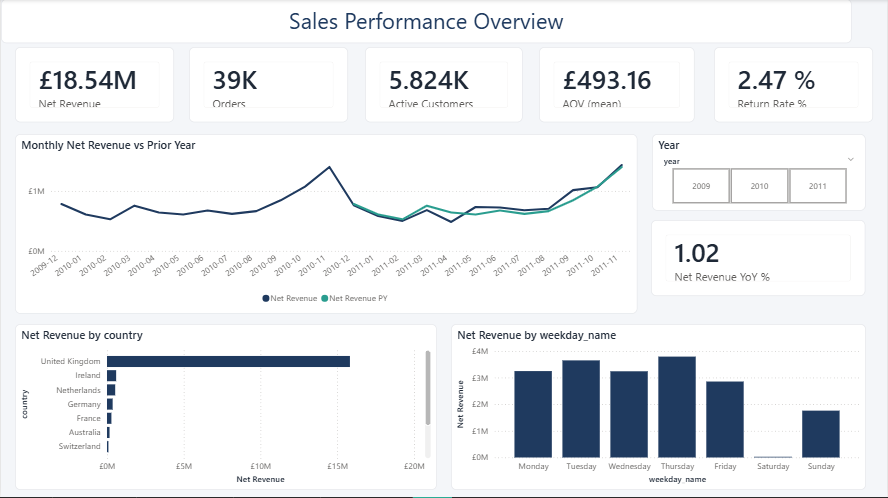

What the dashboard file says about the page in this screenshot:
{"tool":"powerbi","page":{"name":"Overview","canvas":[1280,720],"ordinal":0},"visuals":[{"type":"cardVisual","fields":{"Data":["Measures_.Net Reenue"]},"box":[20.2,70,230.1,109.2],"z":0},{"type":"cardVisual","fields":{"Data":["Measures_.Orders"]},"box":[272.1,70,230.1,109.2],"z":1000},{"type":"cardVisual","fields":{"Data":["Measures_.Active Customers"]},"box":[525.8,70,228.5,109.2],"z":2000},{"type":"cardVisual","fields":{"Data":["Measures_.Return Rate %"]},"box":[1031.4,70,230.1,109.2],"z":3000},{"type":"cardVisual","fields":{"Data":["Measures_.AOV (mean)"]},"box":[777.7,70,225.1,109.2],"z":4000},{"type":"lineChart","title":"Monthly Net Revenue vs Prior Year","fields":{"Category":["dim_calendar.year_month"],"Y":["Measures_.Net Revenue","Measures_.Net Revenue PY"]},"box":[20.2,195,900.4,260],"z":5000},{"type":"slicer","title":"Year","fields":{"Values":["dim_calendar.year"]},"box":[940.7,195,309.1,110.9],"z":6000},{"type":"textbox","box":[0,0,1229.6,63.8],"z":7000},{"type":"clusteredBarChart","fields":{"Category":["dim_country.country"],"Y":["Measures_.Net Revenue"]},"box":[20,470,610,240],"z":8000},{"type":"cardVisual","fields":{"Data":["Measures_.Net Revenue YoY %"]},"box":[940,320,310,110],"z":9000},{"type":"clusteredColumnChart","fields":{"Category":["dim_calendar.weekday_name"],"Y":["Measures_.Net Revenue"]},"box":[650,470,600,240],"z":10000}]}

Visuals, with their boxes in screenshot pixels (x1, y1, x2, y2), scaled from the page's 1280x720 canvas onto the 888x498 screenshot:
cardVisual - Measures_.Net Reenue: bbox=[14, 48, 174, 124]
cardVisual - Measures_.Orders: bbox=[189, 48, 348, 124]
cardVisual - Measures_.Active Customers: bbox=[365, 48, 523, 124]
cardVisual - Measures_.Return Rate %: bbox=[716, 48, 875, 124]
cardVisual - Measures_.AOV (mean): bbox=[540, 48, 696, 124]
"Monthly Net Revenue vs Prior Year" lineChart: bbox=[14, 135, 639, 315]
"Year" slicer: bbox=[653, 135, 867, 212]
textbox: bbox=[0, 0, 853, 44]
clusteredBarChart - dim_country.country x Measures_.Net Revenue: bbox=[14, 325, 437, 491]
cardVisual - Measures_.Net Revenue YoY %: bbox=[652, 221, 867, 297]
clusteredColumnChart - dim_calendar.weekday_name x Measures_.Net Revenue: bbox=[451, 325, 867, 491]
